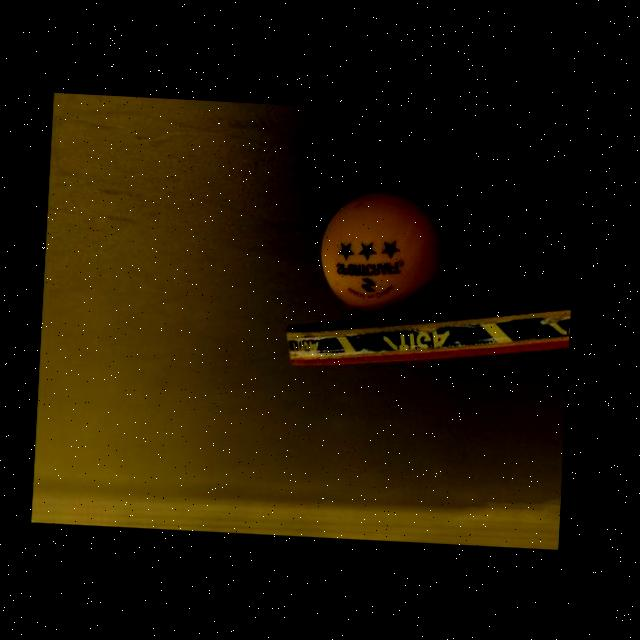ping-pong-ball: (314, 183, 452, 328)
